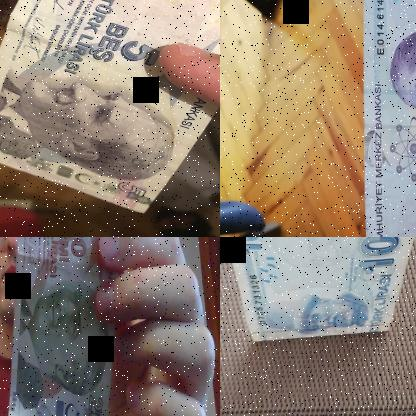5 TL: (0, 0, 219, 214)
